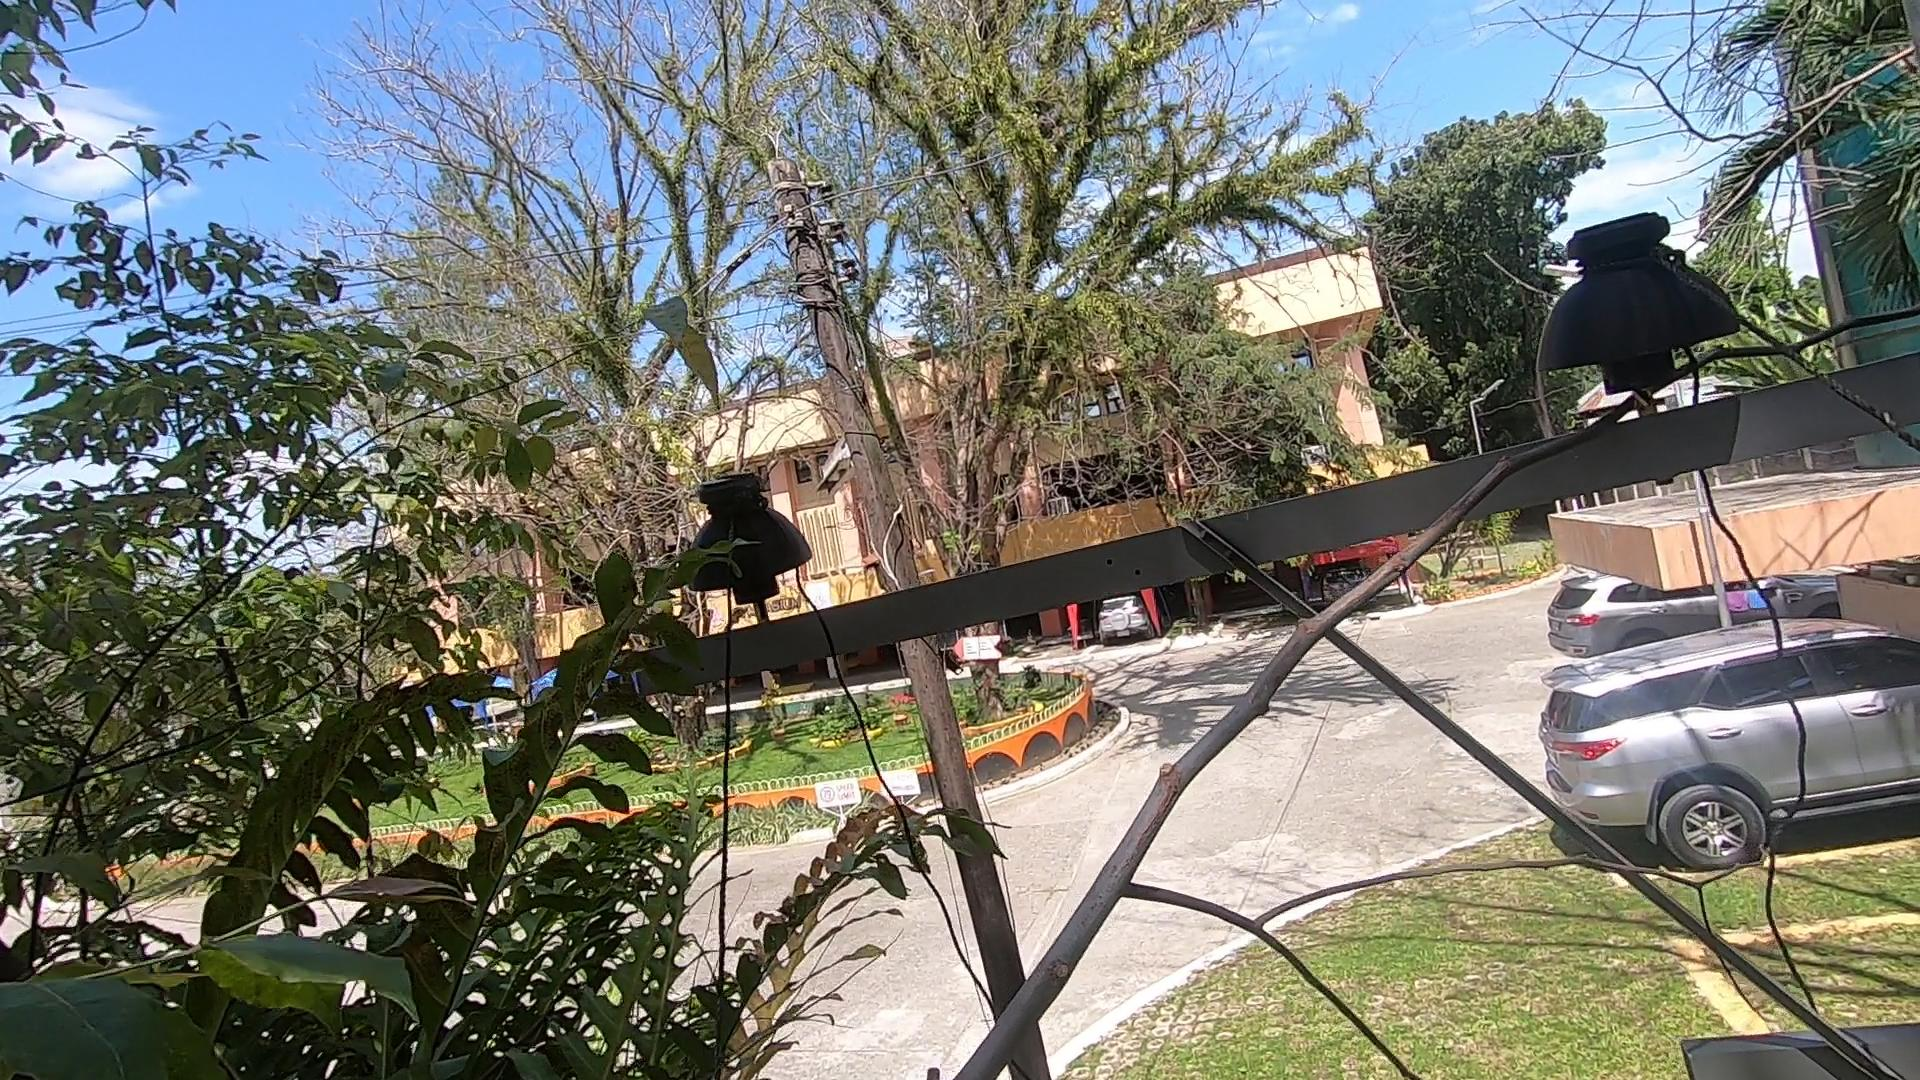tree branch: (746, 249, 1920, 1036)
